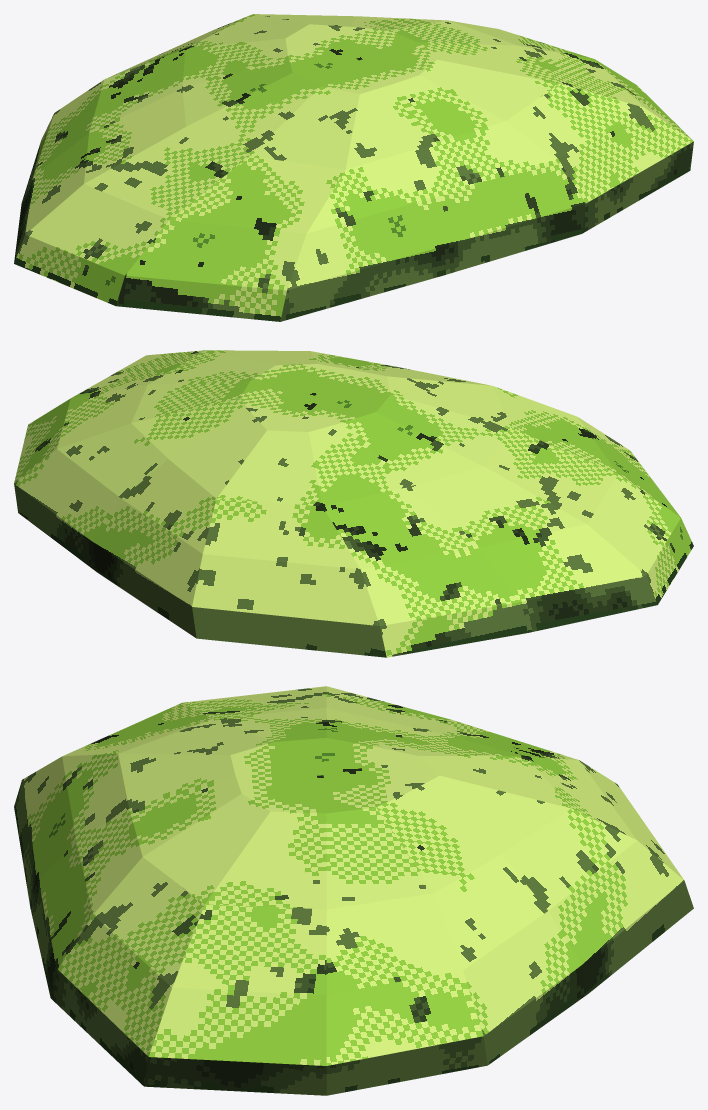
Rendered from SM_Dirt_SlimePuddle_01.glb.
3 renders of one model, top to bottom at view 1: azimuth 30°, elevation 25°; view 2: azimuth 150°, elevation 25°; view 3: azimuth 270°, elevation 25°, orthographic. The views are drawn at different scales.
Visible parts, largest first — view 1: slime_shell; view 2: slime_shell; view 3: slime_shell.
Part boxes in pixels (box(x1,y1,x2,y2)): slime_shell: box(14, 14, 693, 321); slime_shell: box(14, 350, 693, 657); slime_shell: box(14, 686, 693, 1095).
Size of the model in its own units: 1.05 by 0.225 by 0.7994.
1 material, 1 textured.
